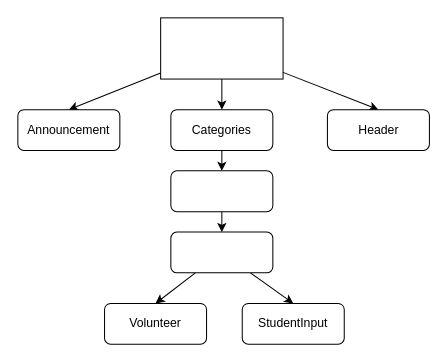
Some shapes in this 448 by 362 pixel diagram are drawn without their labels. Each missing label, with the centre of its shape:
"App" goes at point (221, 48).
"CategoriesList" goes at point (221, 191).
"TopicCard" goes at point (221, 252).
